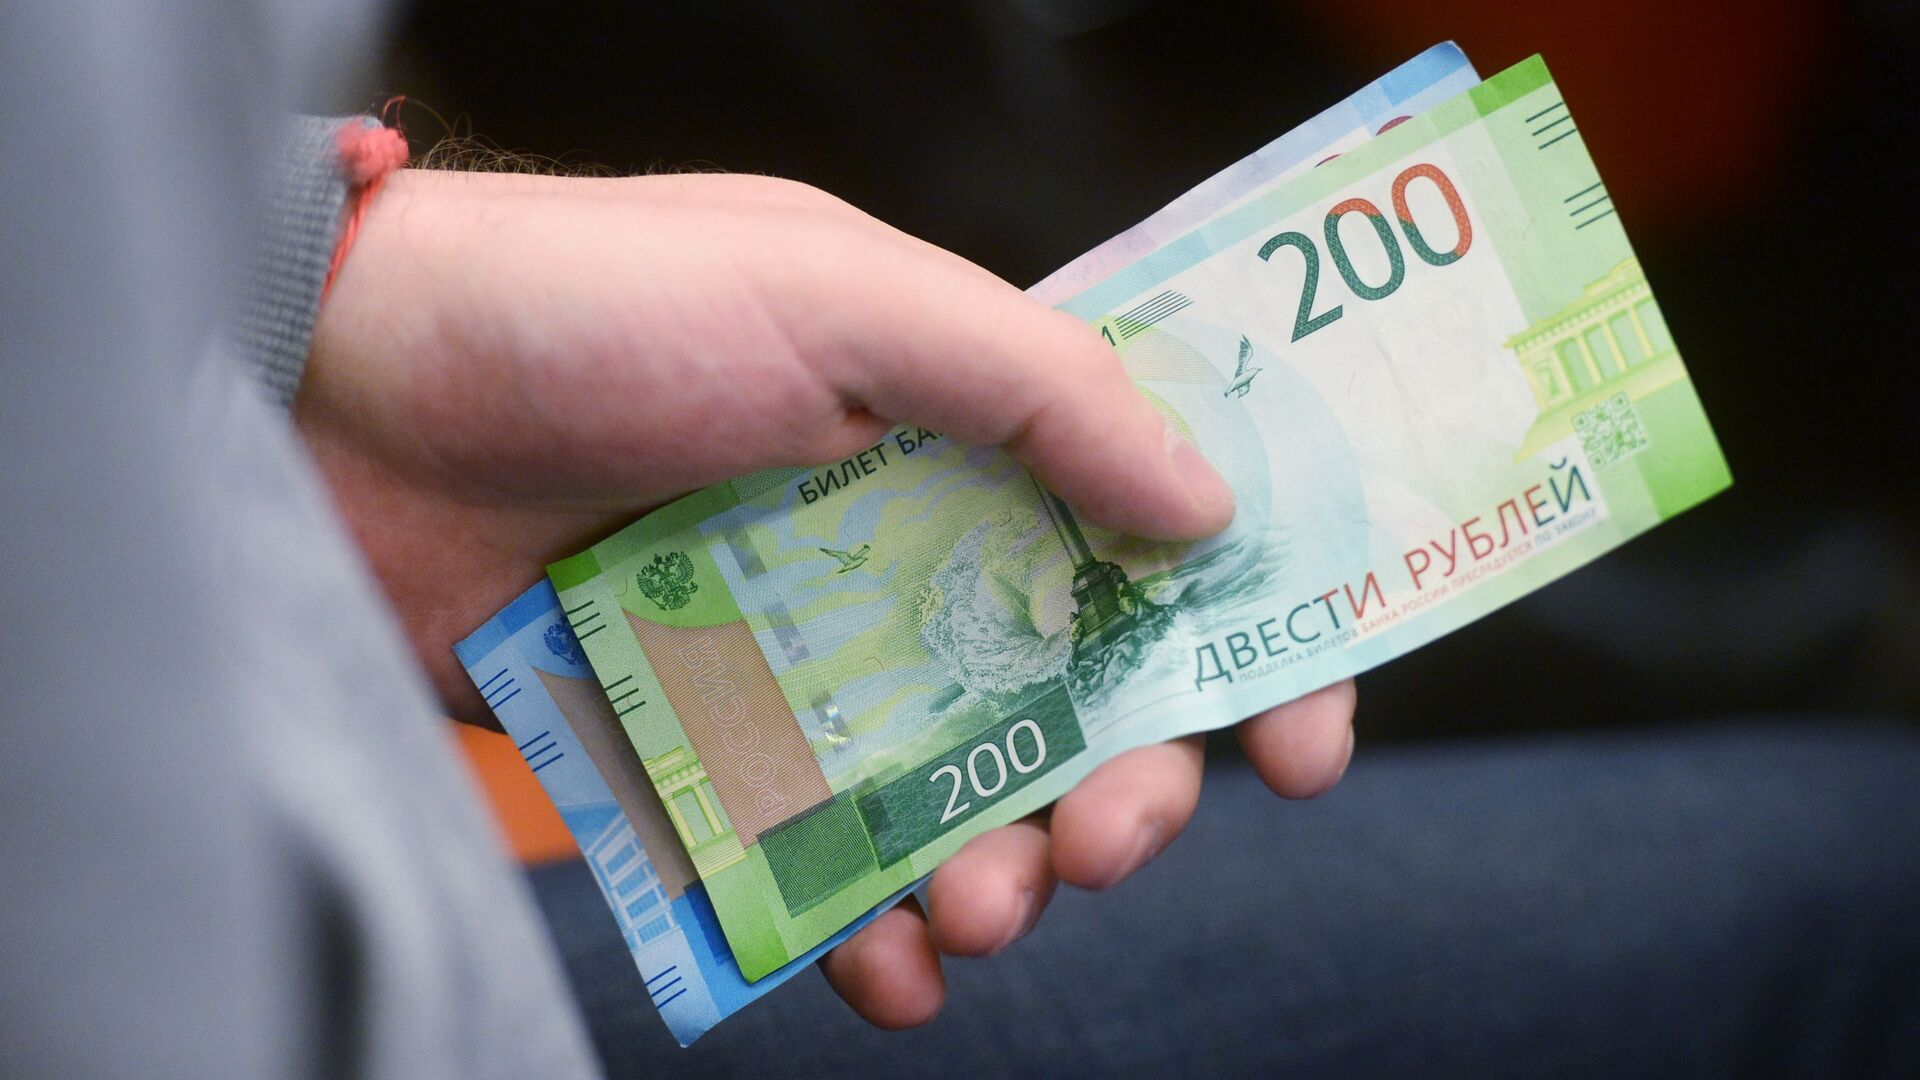cash: (550, 55, 1730, 981)
